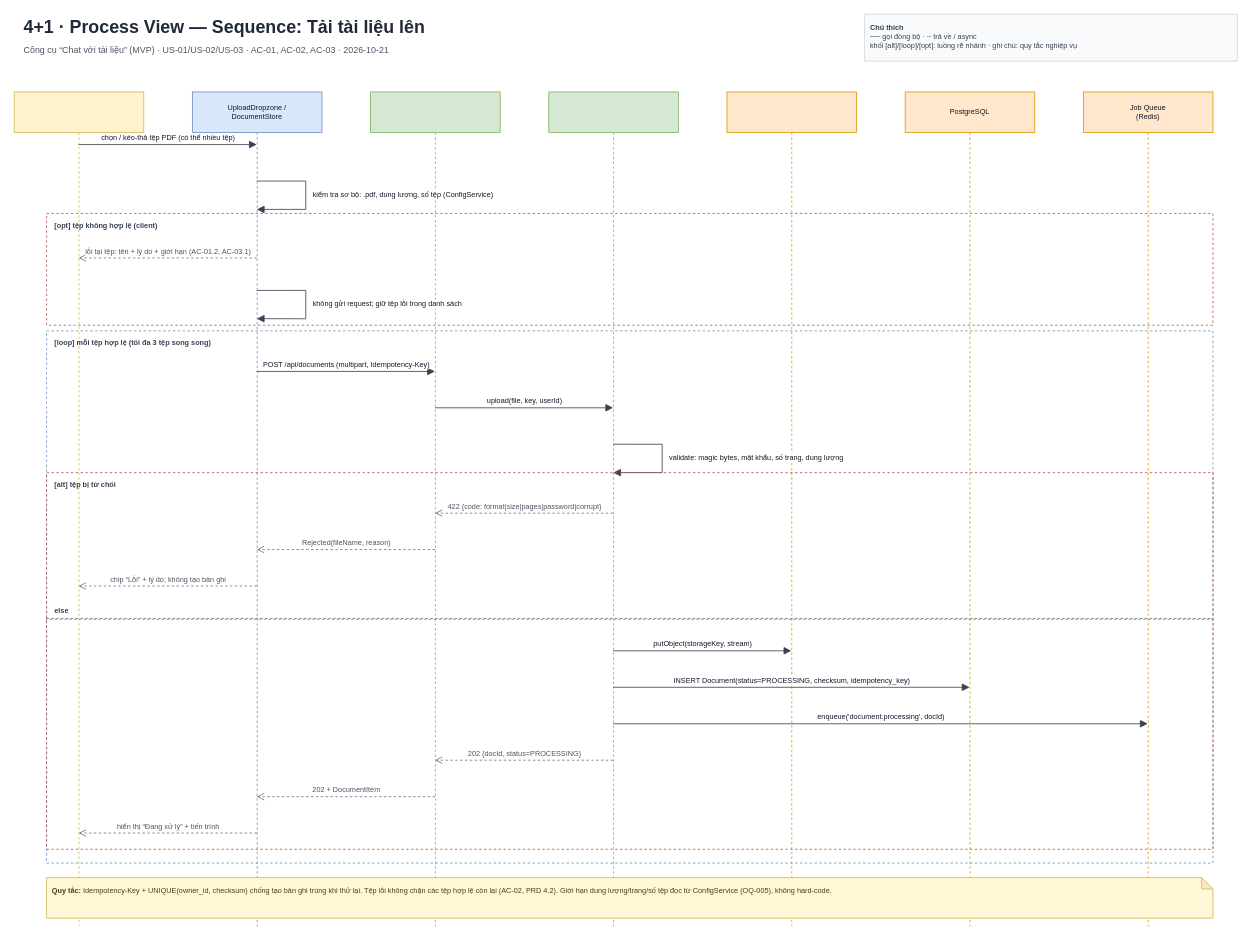
Image size: 1251x940. Some labels were removed from this diagram. Each missing label, with the box of its shape:
Document API: (370, 91, 500, 926)
Document Service: (548, 91, 678, 926)
Người dùng: (13, 91, 144, 926)
Object Storage: (726, 91, 857, 926)
